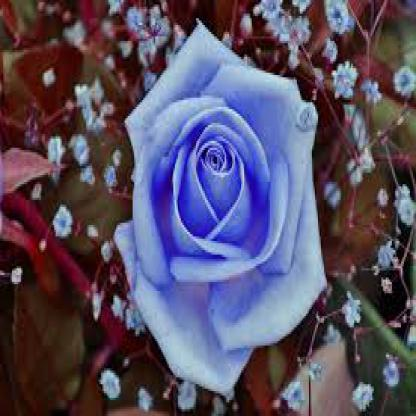Rose-Mawar: (111, 19, 331, 399)
